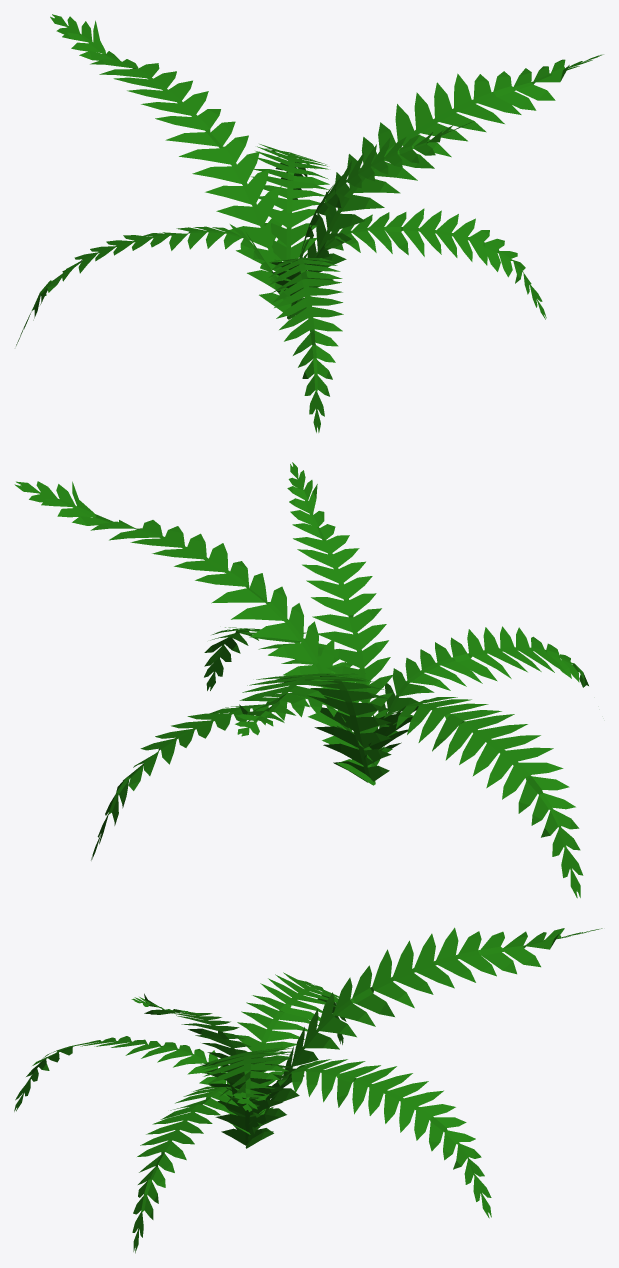
Rendered from Jungle_fern.fbx.
3 views of the same model, one above another, from view 1: azimuth 30°, elevation 25°; view 2: azimuth 150°, elevation 25°; view 3: azimuth 270°, elevation 25° (orthographic). The views are drawn at different scales.
Parts seen in each view (by area): view 1: Plane; view 2: Plane; view 3: Plane.
Part boxes in pixels (box(x1,y1,x2,y2)): Plane: box(16, 14, 603, 432); Plane: box(14, 462, 588, 898); Plane: box(14, 927, 602, 1253).
Bounding box in the file's own units: 1.24 × 0.4793 × 1.17.
